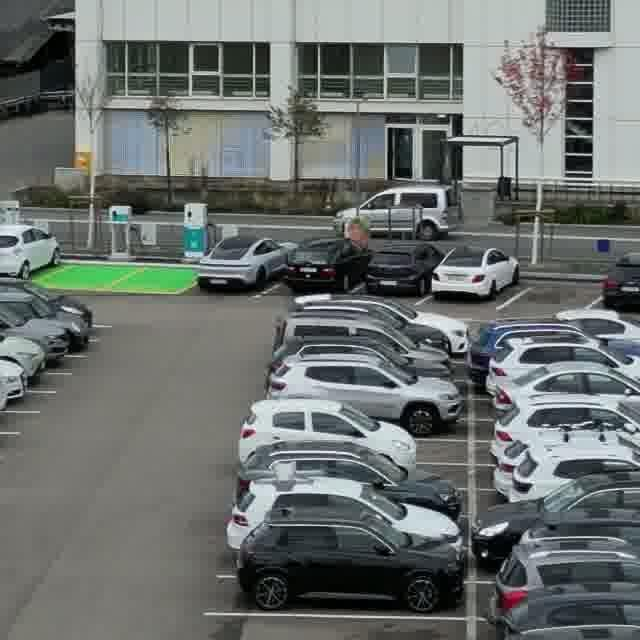Drohne: (238, 461, 323, 483)
